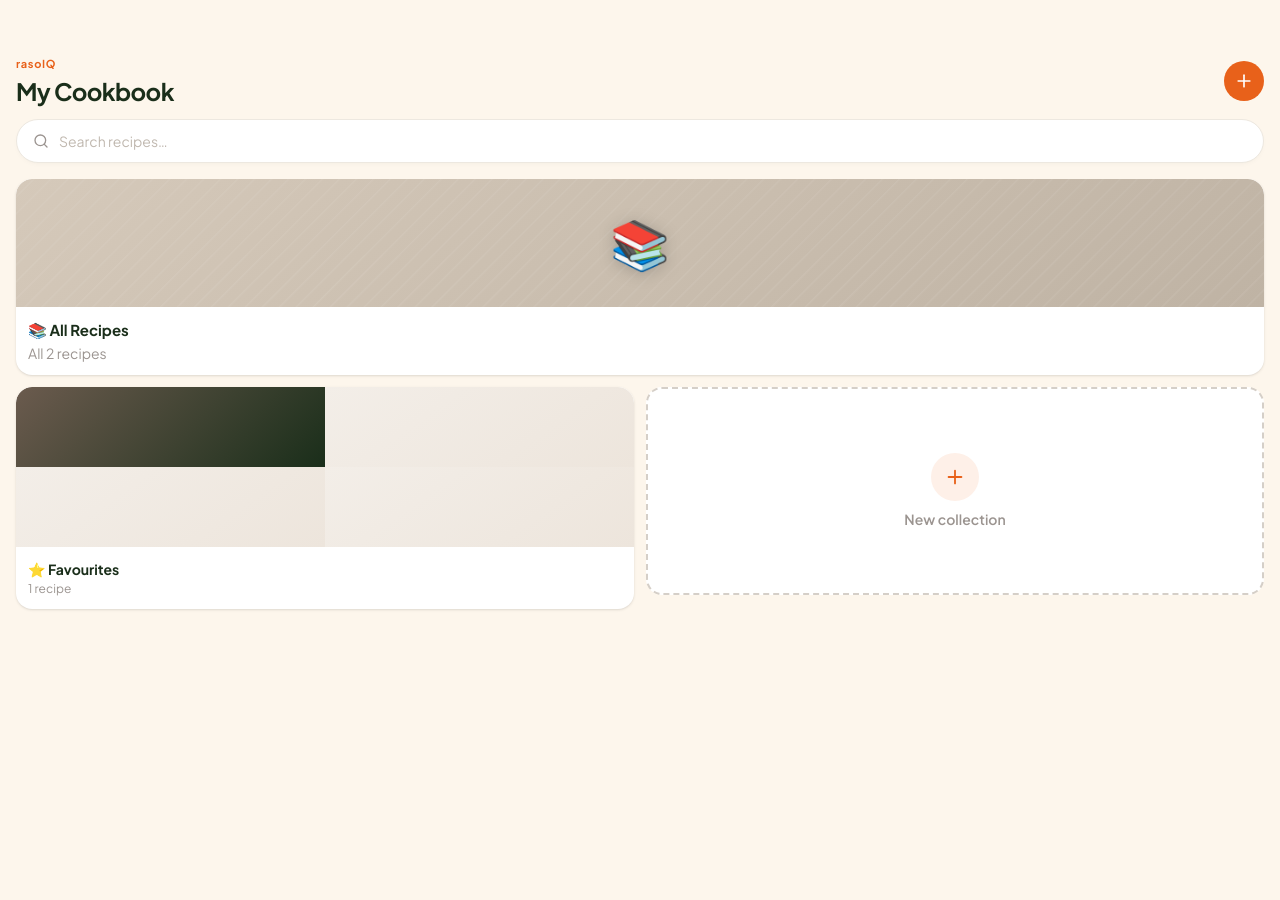
SavedRecipes (My Cookbook) › tapping All Recipes opens collection view with all recipes
Click the text "📚 All Recipes". click: click(78, 329)
box: [28,320,129,338]
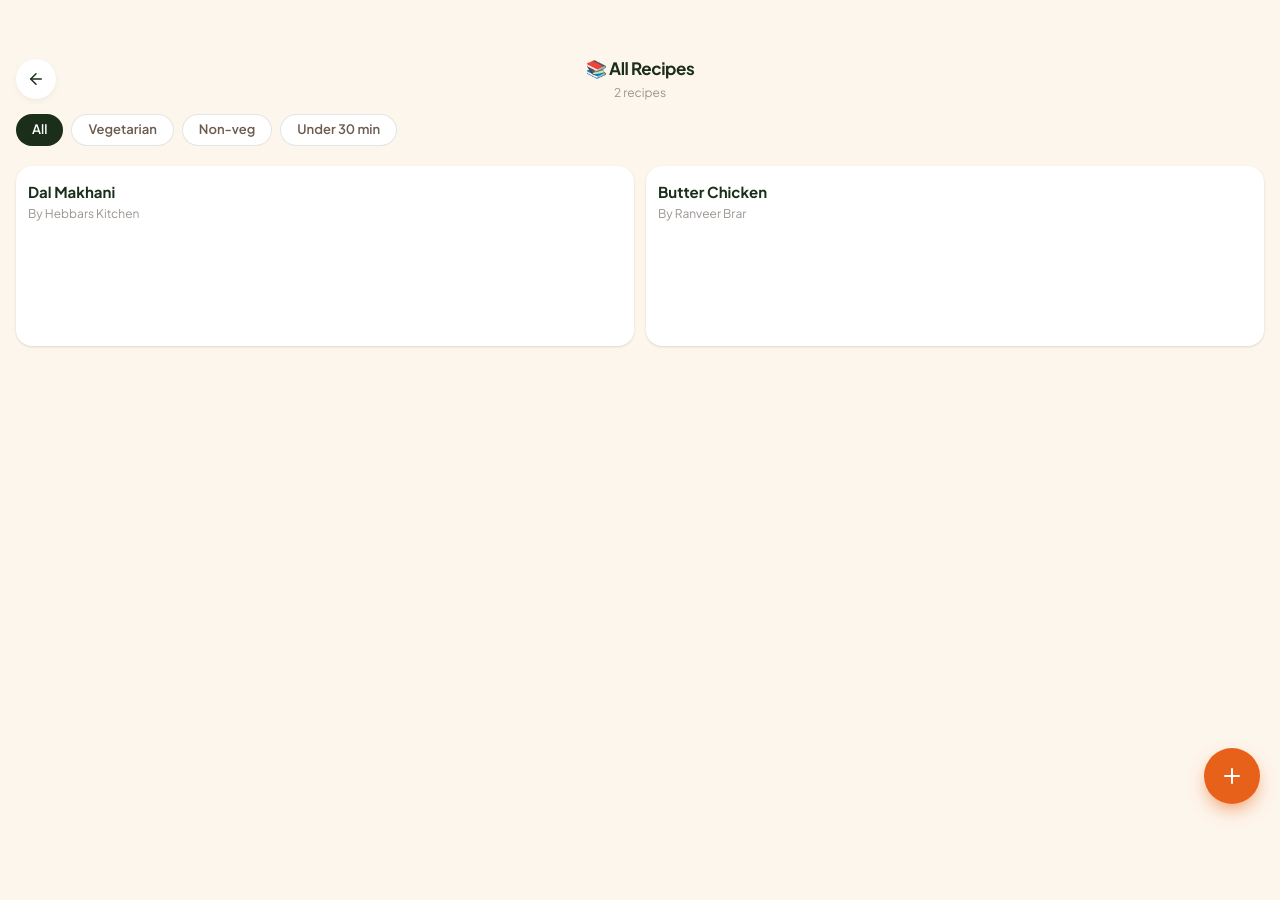
Expected: the text "Dal Makhani" is shown, [28,182,115,200]
